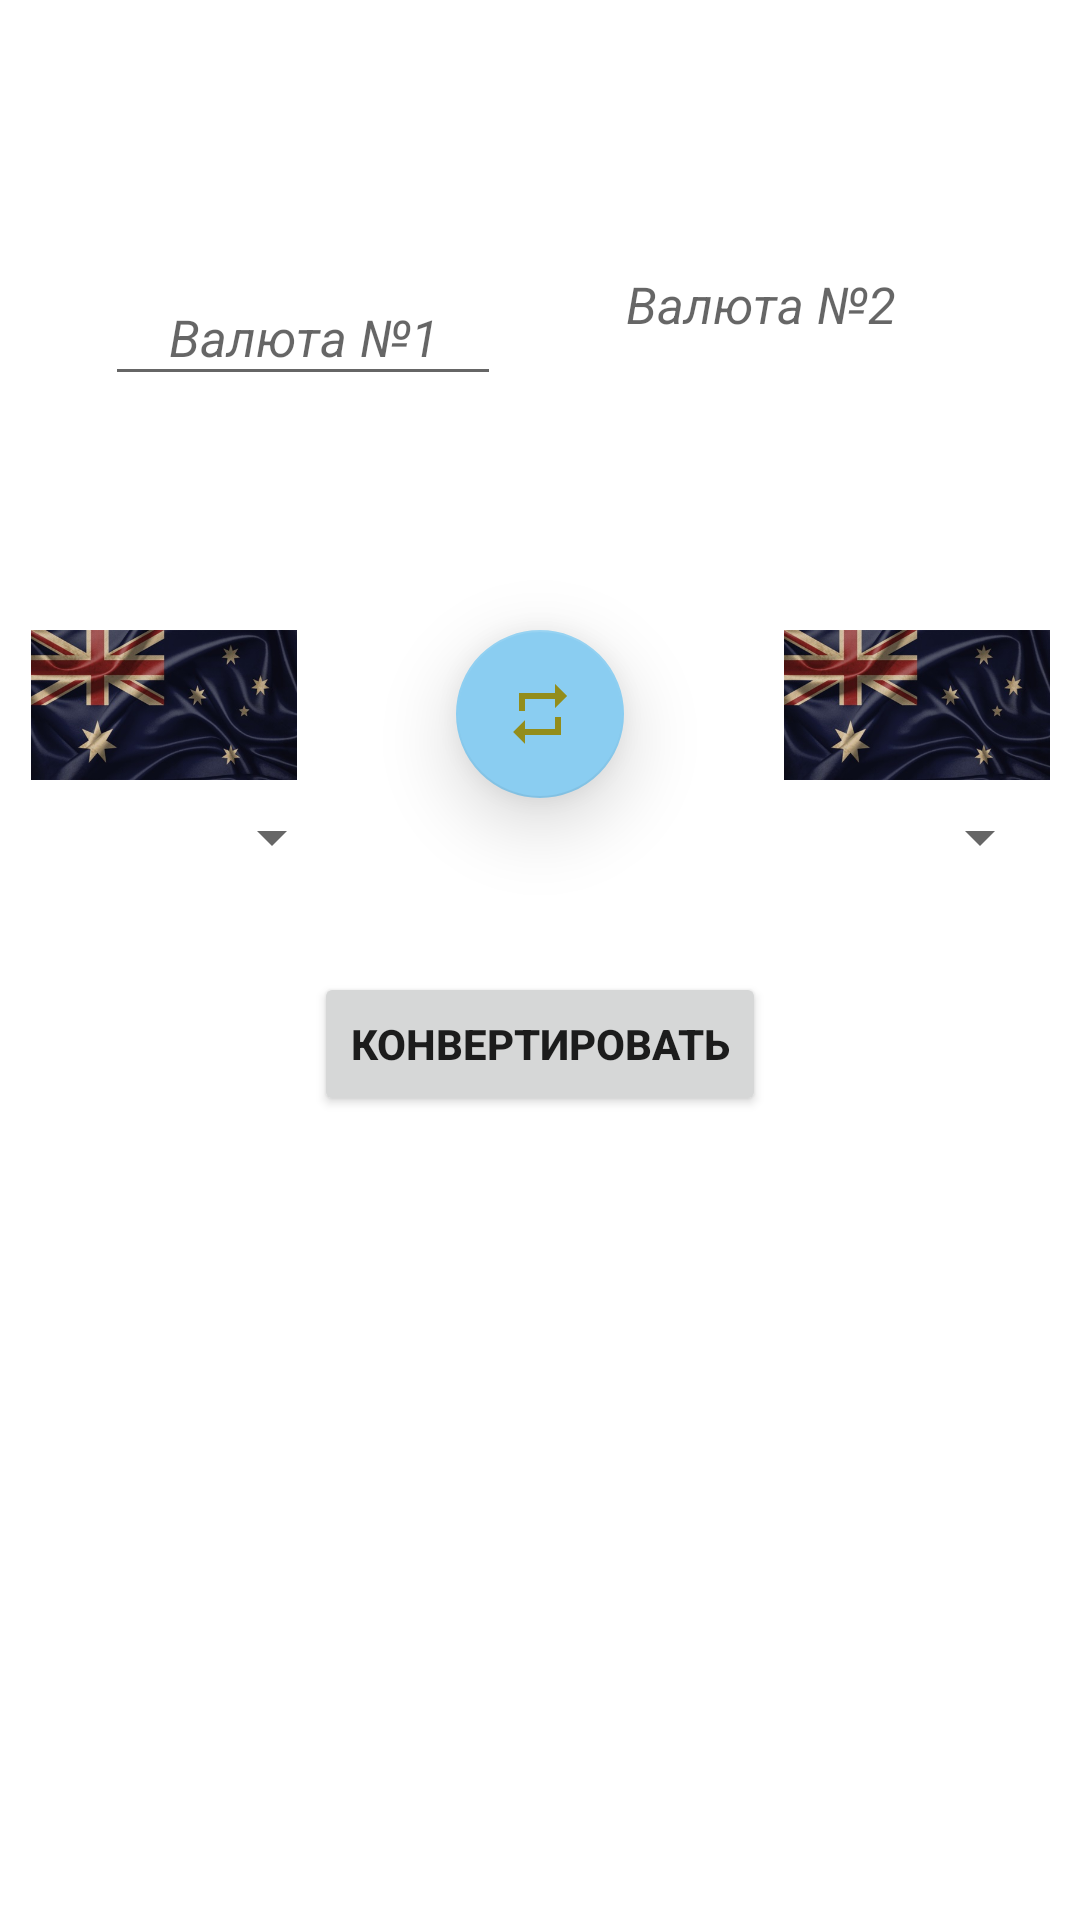

Icons on this 1080px×1920px Android screen, each with the point to tap as point (x, y):
aud: point (164, 705), point (917, 705)
change: point (540, 714)
